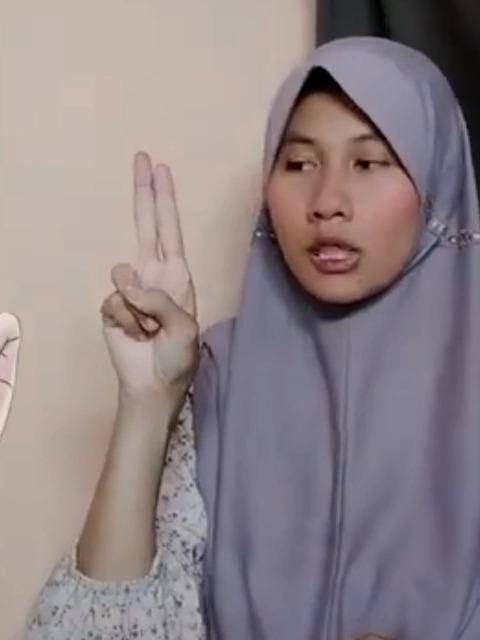U: (93, 142, 199, 404)
